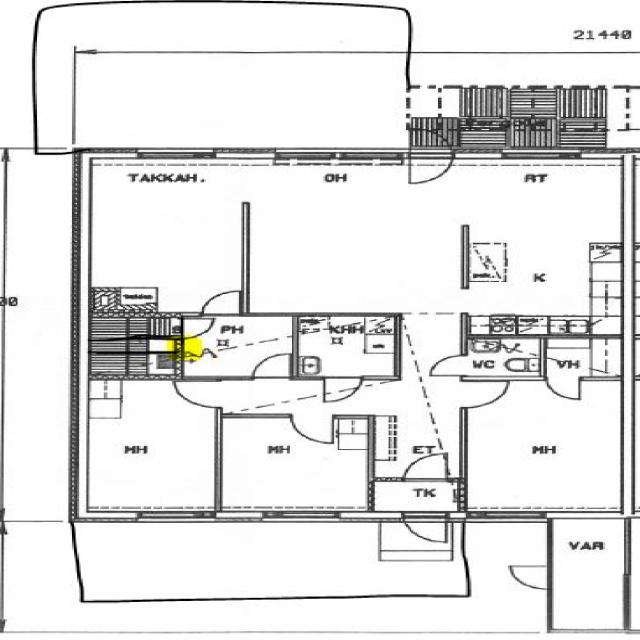door: (404, 511, 446, 549), (410, 148, 453, 185), (410, 122, 453, 158), (404, 451, 447, 482), (173, 381, 222, 407), (291, 413, 332, 443), (461, 381, 508, 407), (202, 288, 241, 316), (510, 566, 554, 589), (325, 376, 362, 403), (253, 353, 289, 380), (177, 337, 216, 357), (428, 355, 467, 375), (547, 375, 579, 399)
